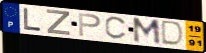C: (104, 16, 129, 41)
D: (160, 19, 186, 48)
L: (23, 7, 43, 33)
M: (131, 17, 163, 46)
P: (78, 12, 103, 38)
Z: (46, 9, 72, 37)
